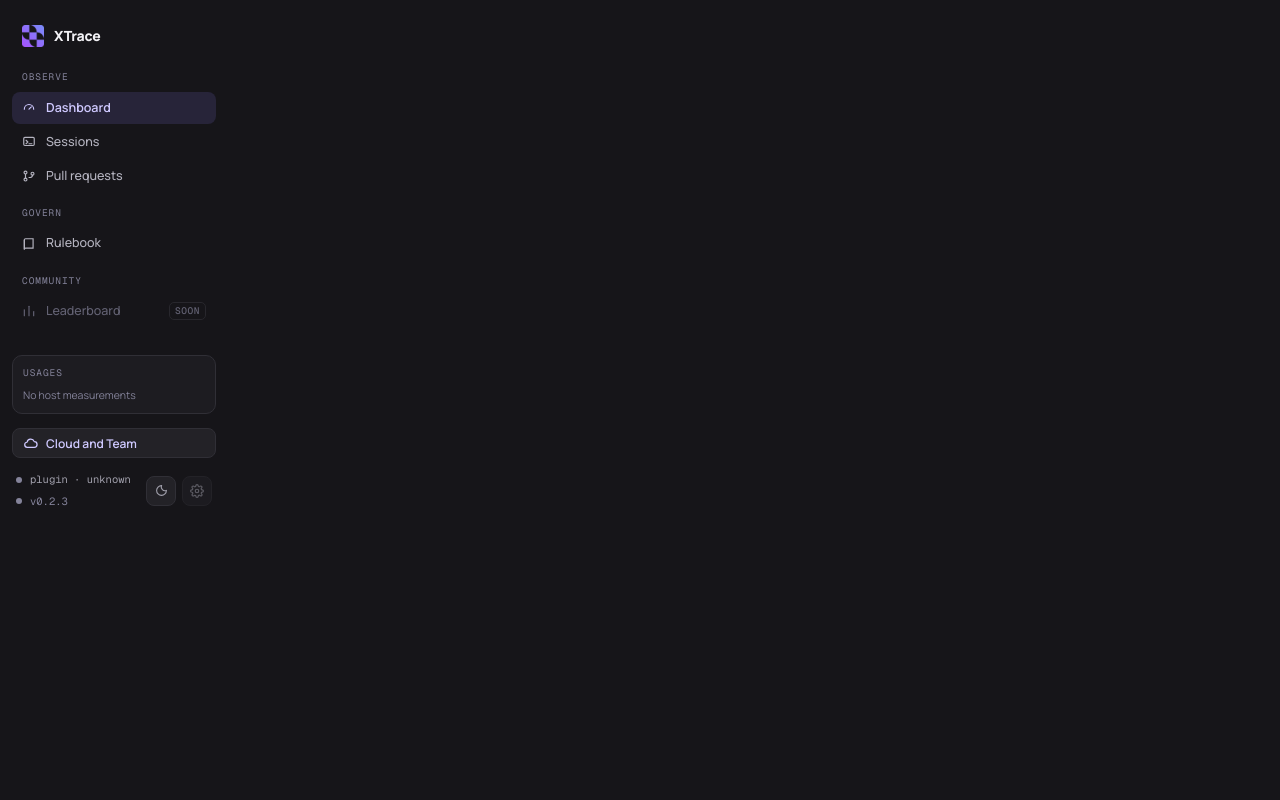
Test: keeps missing measurements, listener and capture coverage explicitly unknown
Expected: the text "No host measurements" is shown, [23,388,136,402]
Click the button with aria-label "Capture status" at (73, 480), box [16,472,131,488]
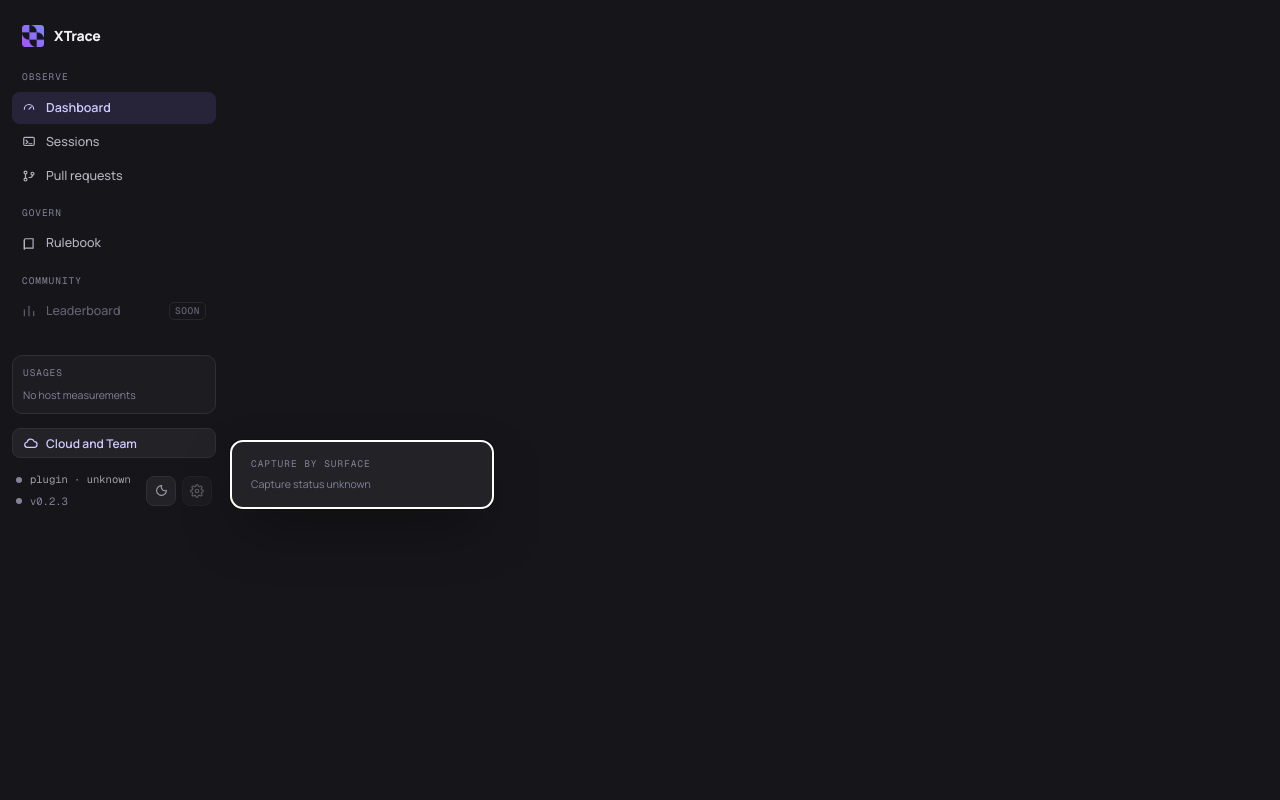
Expected: the text "plugin · unknown" is shown, [30,472,131,488]
Result: the text "Capture status unknown" is shown at [251,477,371,491]
